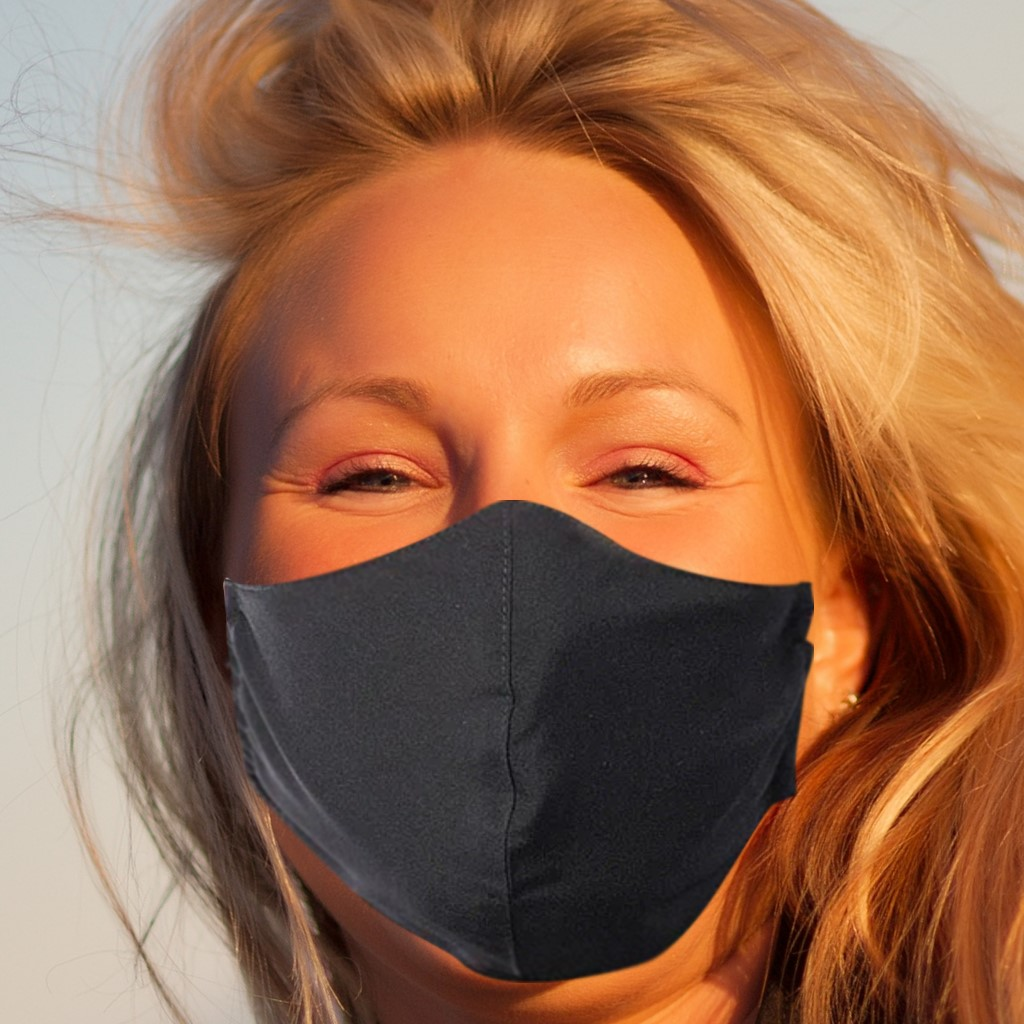con_mascara: (202, 126, 853, 967)
